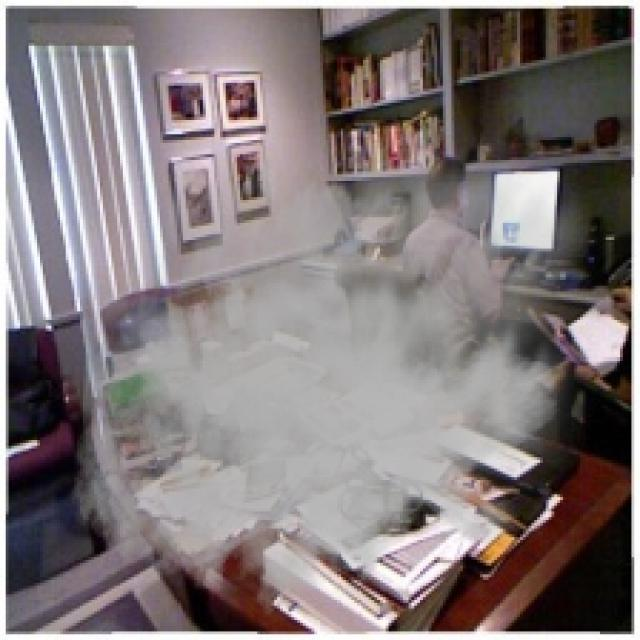Smoke: (71, 97, 608, 632)
